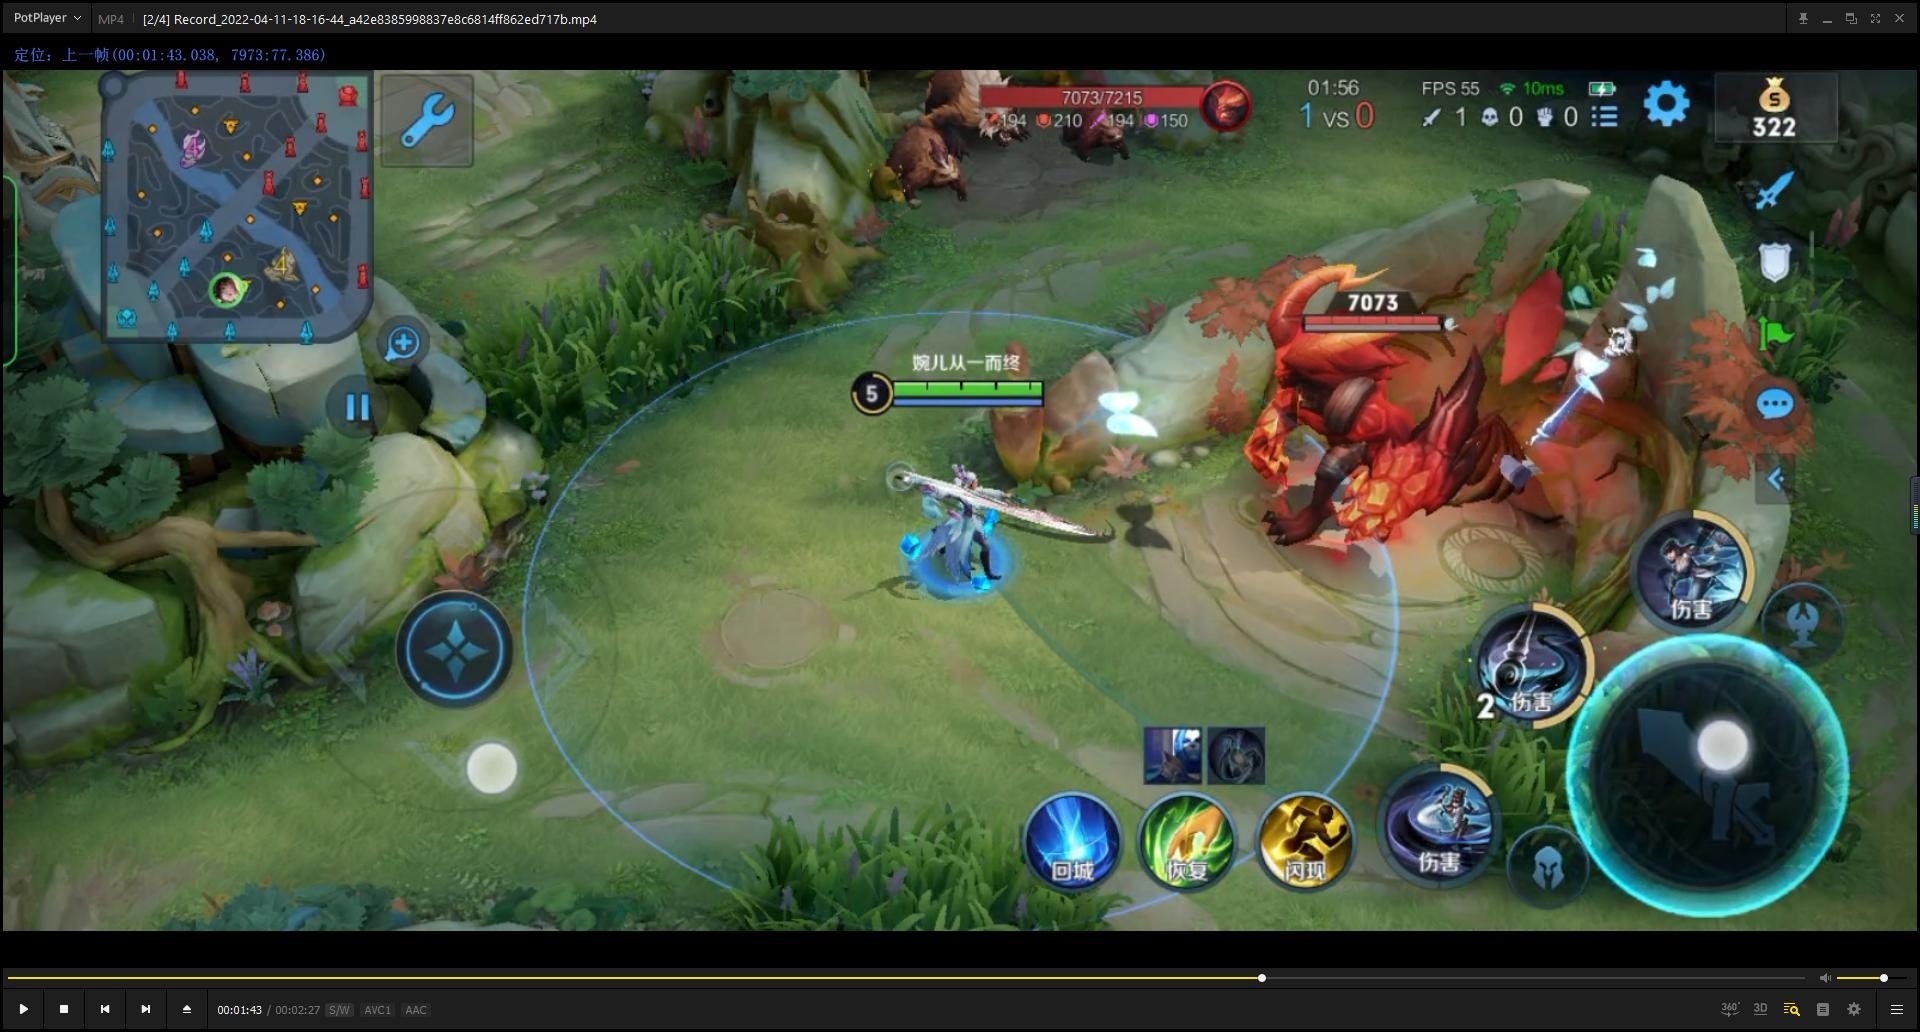Buff: (1217, 294, 1512, 586)
Hero: (869, 444, 1119, 634)
Pig: (910, 69, 1045, 164), (1062, 71, 1163, 194), (878, 113, 987, 222)
